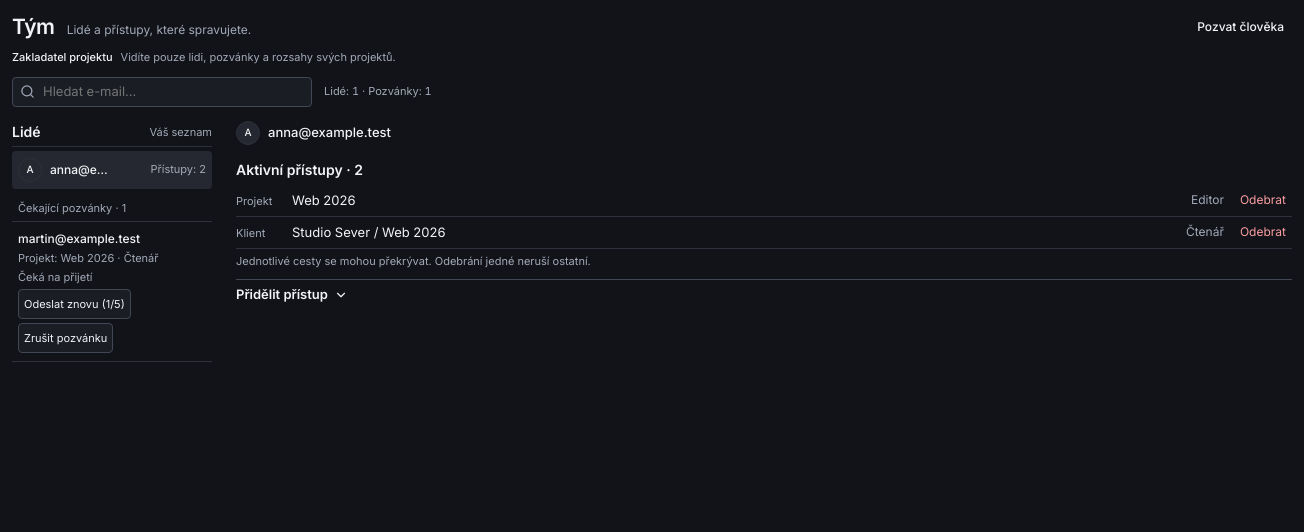
Test case: approved compact team workspace › separates a pending invitation from the person's active grant paths and states private exclusions
Expected: the element named "Vlastní seznam lidí" shows "martin@example.test", top-left (18, 231), bottom-right (140, 246)
Expected: the element named "Detail osoby" does not show "martin@example.test"
Click the button "Přidělit přístup".
click(282, 294)  # box top-left (236, 279), bottom-right (1292, 311)
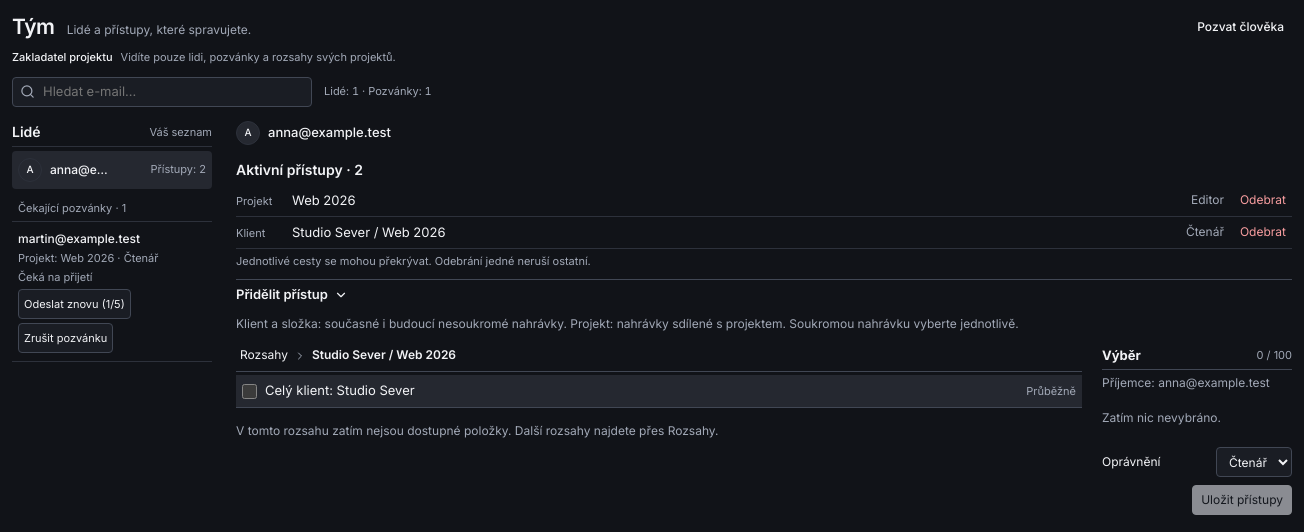
Now the text "současné i budoucí nesoukromé nahrávky" is shown, box top-left (236, 316), bottom-right (1019, 331)
Now the text "Soukromou nahrávku vyberte jednotlivě" is shown, box top-left (236, 316), bottom-right (1019, 331)
